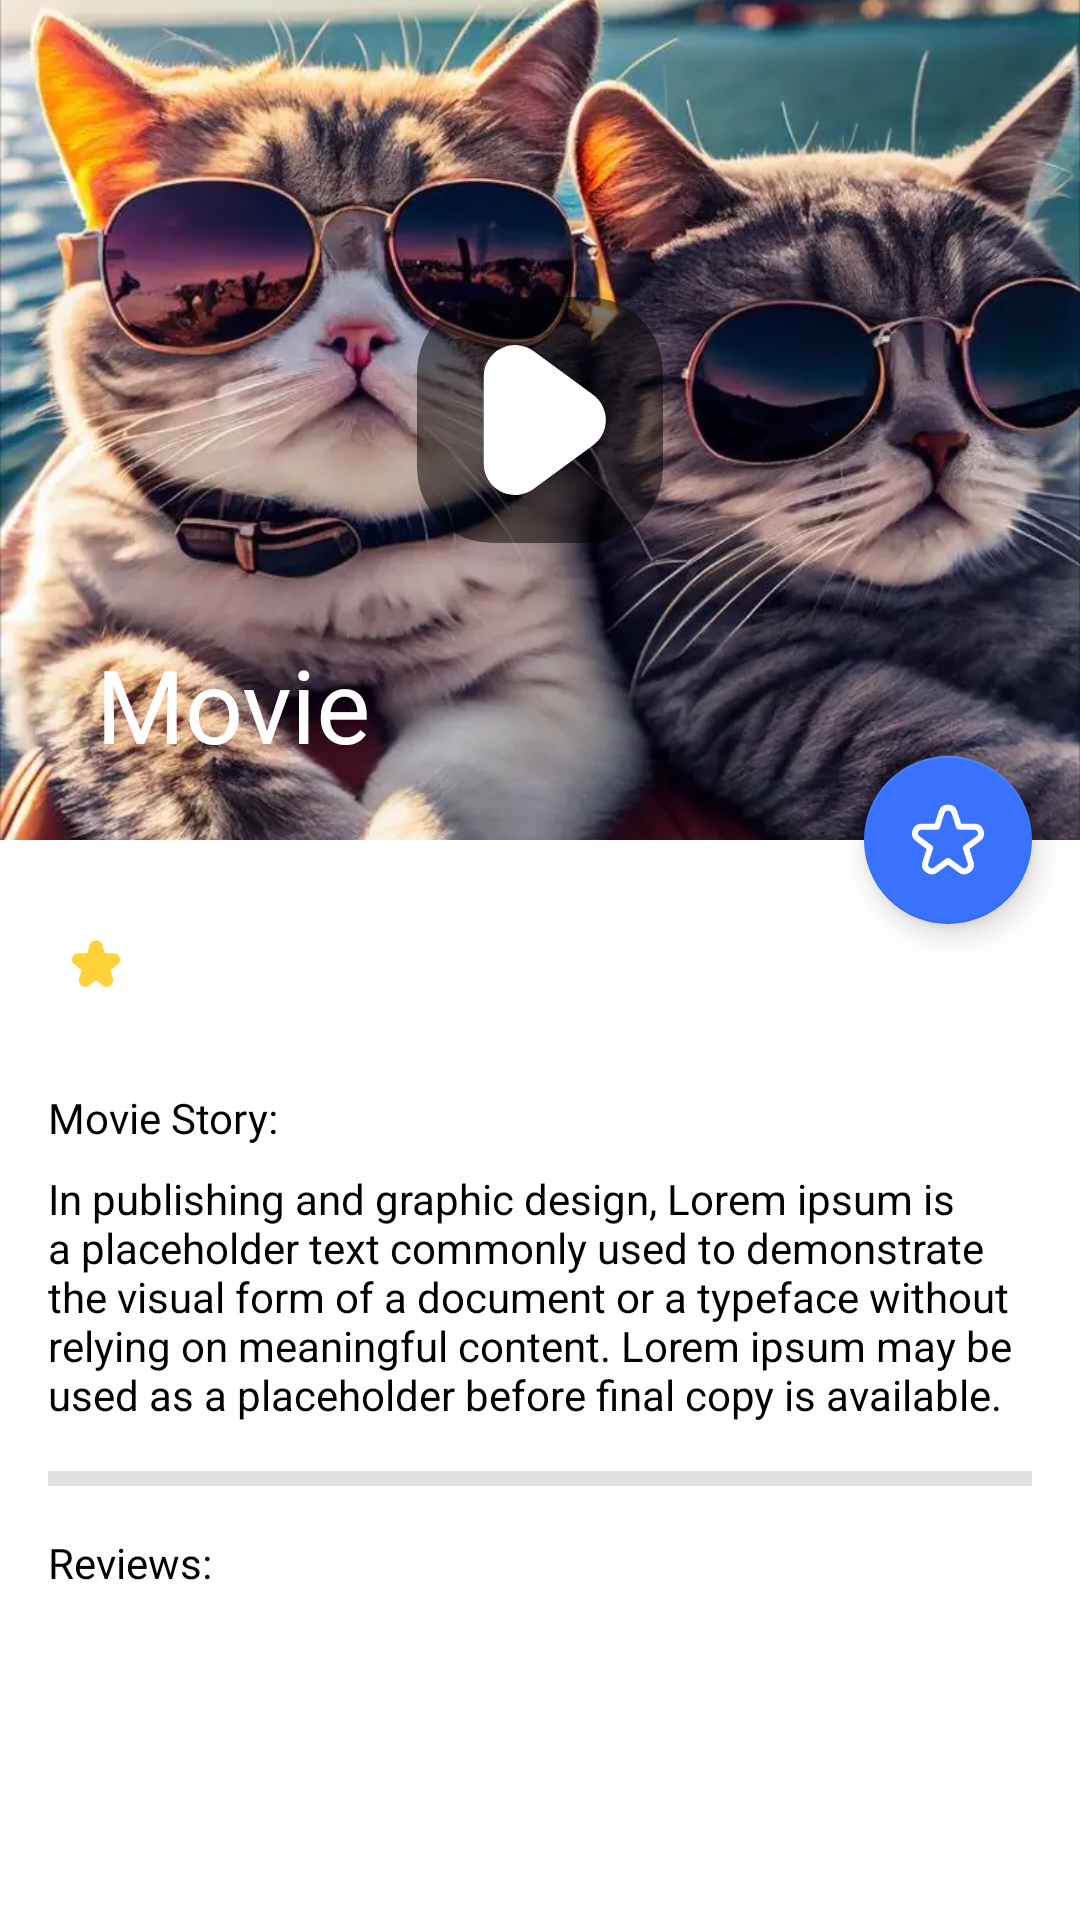

Point at icon controls on the screen. Image size 1080x1920, points as (x,y).
play: (539,420)
star: (948,840), (96,963)
